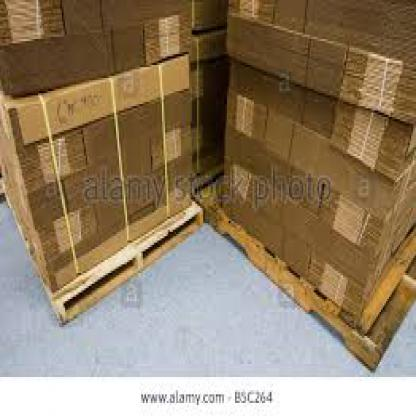CARDBOARD: (6, 50, 189, 286), (219, 180, 415, 314), (222, 119, 414, 254), (222, 82, 414, 214), (222, 156, 414, 279), (224, 9, 414, 121), (224, 74, 414, 182), (5, 52, 186, 136), (224, 0, 414, 65), (0, 104, 54, 290), (0, 28, 111, 93), (103, 11, 191, 71), (189, 54, 225, 173), (0, 0, 102, 41), (100, 0, 190, 33), (189, 0, 225, 33), (188, 28, 226, 59)
